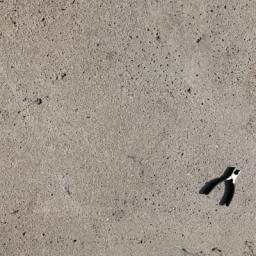FOD: (199, 162, 244, 209)
